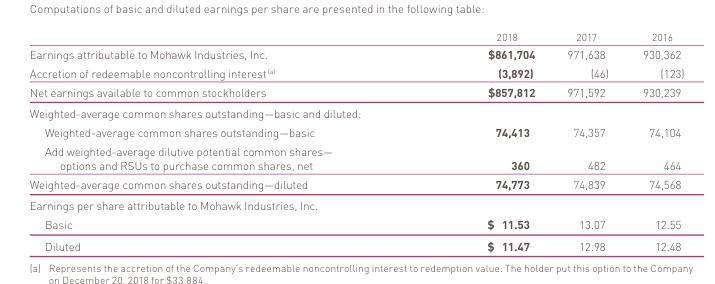table: (28, 28, 683, 252)
table column: (28, 28, 409, 252), (409, 28, 550, 252), (550, 28, 625, 252), (625, 28, 683, 252)
table column header: (28, 28, 683, 43)
table projected row header: (28, 101, 683, 121), (28, 193, 683, 213)
table row: (28, 140, 683, 173), (28, 80, 683, 101), (28, 101, 683, 121), (28, 173, 683, 193), (28, 193, 683, 213), (28, 213, 683, 233), (28, 61, 683, 80), (28, 121, 683, 140), (28, 233, 683, 252), (28, 43, 683, 61), (28, 28, 683, 43)
